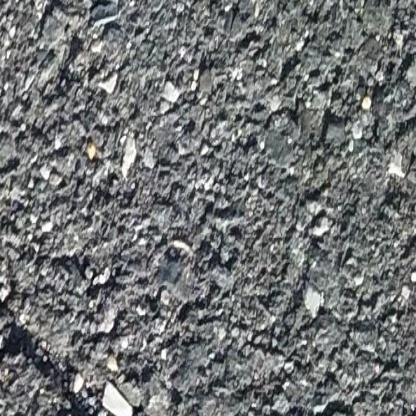Cracks: (0, 298, 177, 416)
